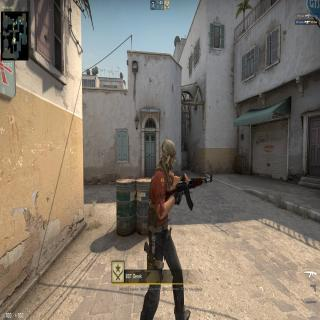T-Head: (160, 136, 177, 177)
